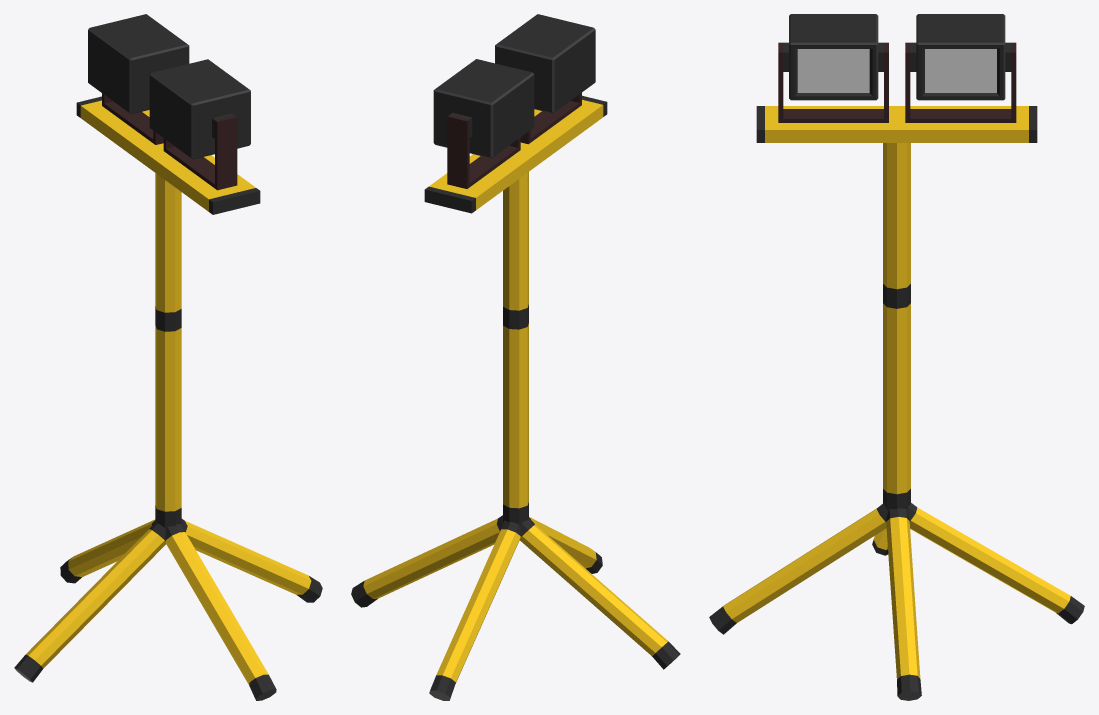
File: ConstructionLight_01.glb
The picture shows the model from 3 angles, left to right: view 1: azimuth 30°, elevation 25°; view 2: azimuth 150°, elevation 25°; view 3: azimuth 270°, elevation 25°; orthographic projection. The views are drawn at different scales.
Parts seen in each view (by area): view 1: ConstructionLight_01; view 2: ConstructionLight_01; view 3: ConstructionLight_01.
Part boxes in pixels (left/top/right/bottom): ConstructionLight_01: left=14, top=14, right=322, bottom=700; ConstructionLight_01: left=351, top=14, right=680, bottom=700; ConstructionLight_01: left=709, top=14, right=1084, bottom=700.
Size of what is drawn, in the model's own units: 0.8115 by 1.43 by 0.8115.
1 material, 1 textured.
